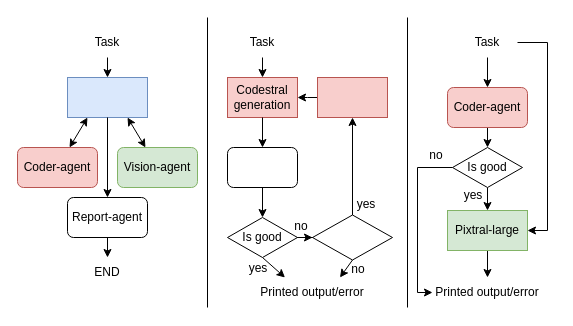
This 573x326 diagram has some shape labels left out. The centre of each missing label's shape, as x and y in pixels:
"Can regen?" goes at (x=352, y=237).
"Code checking" goes at (x=262, y=167).
"Codestral reflexing" goes at (x=352, y=97).
"Mistral-large" goes at (x=107, y=97).
